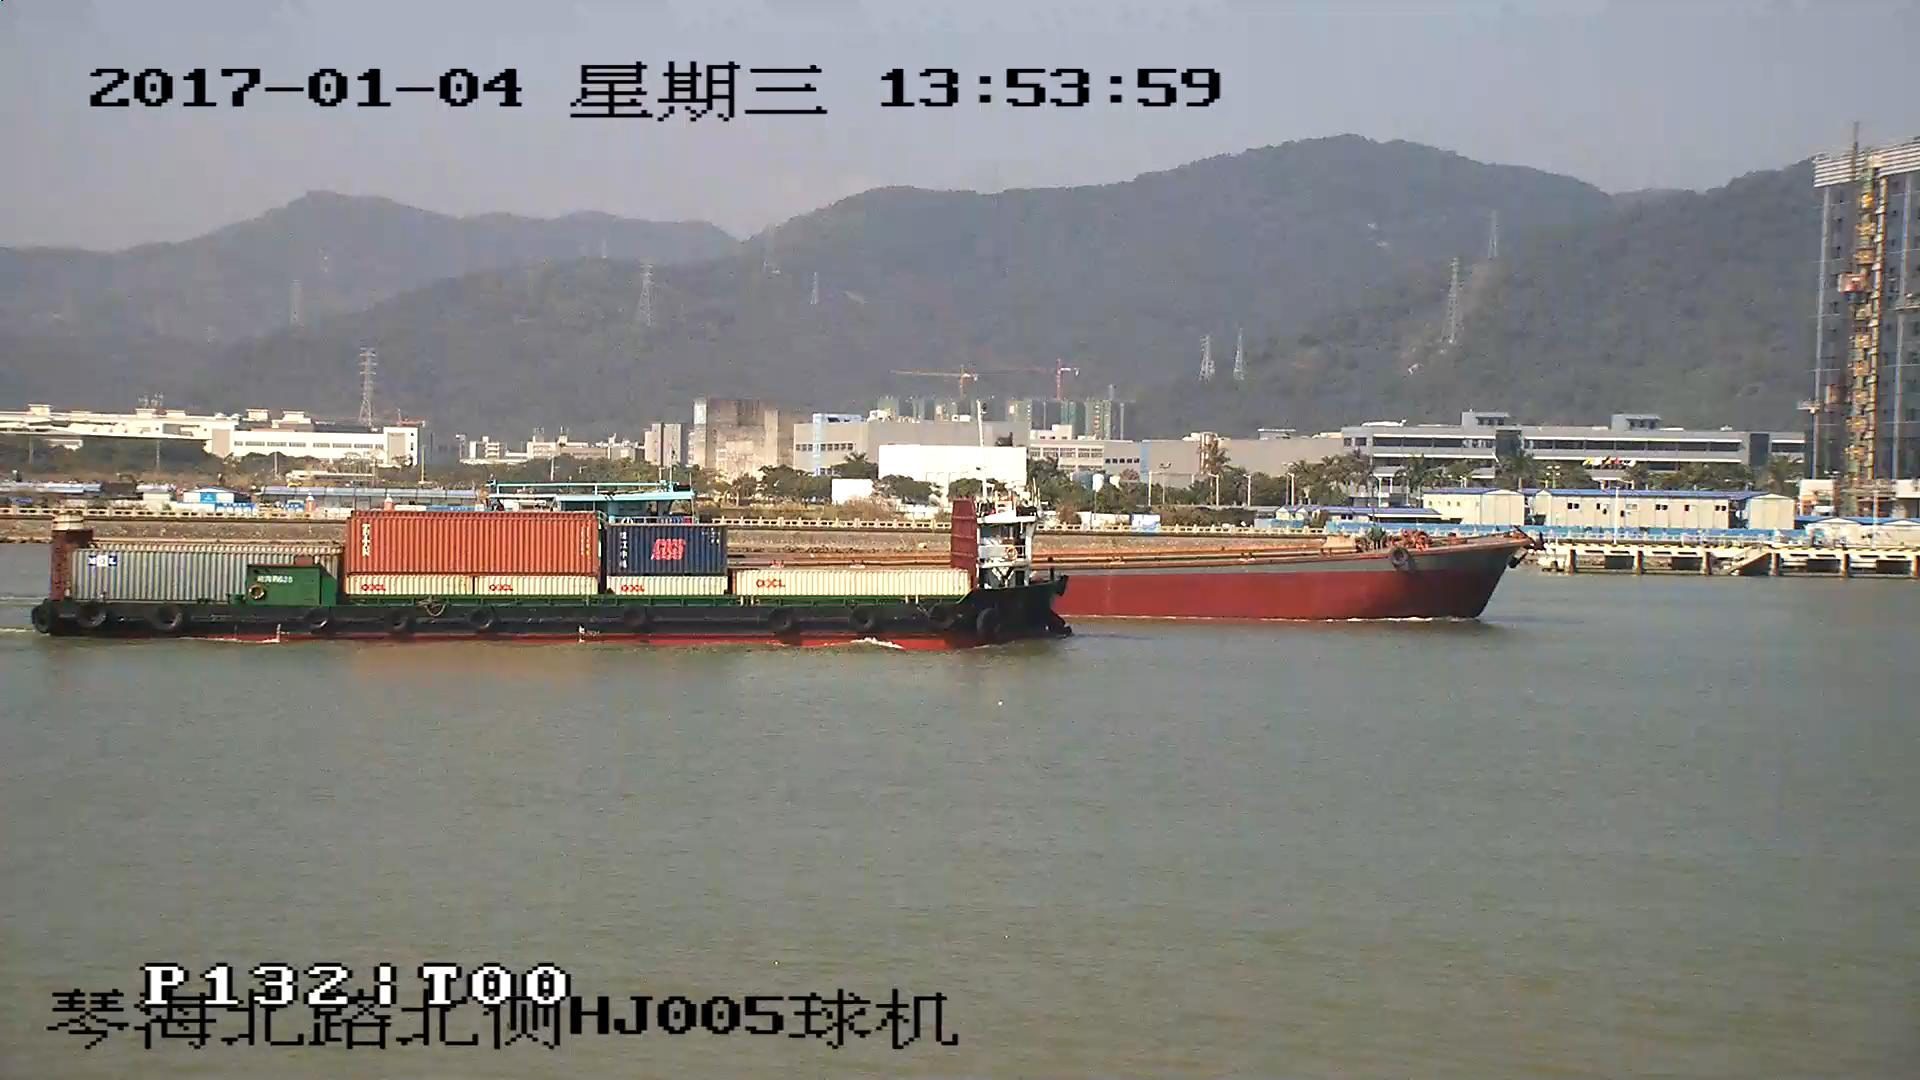Ship: (34, 512, 1073, 636), (1054, 527, 1524, 622)
